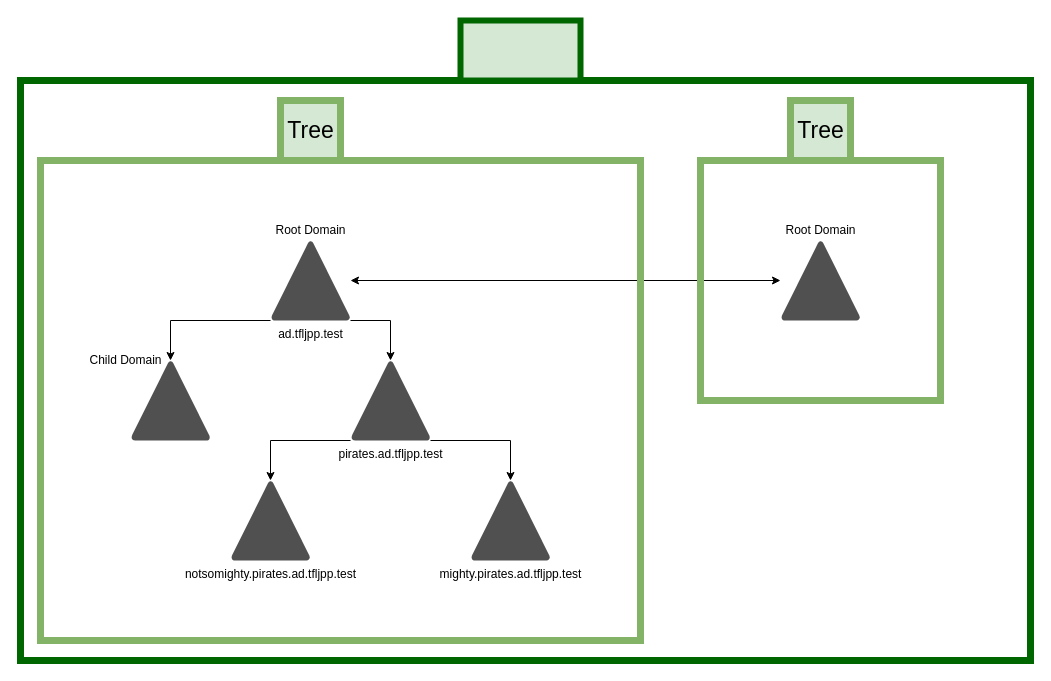
This 1051x681 diagram has some shape labels left out. Each missing label, with the centre of its shape:
"ad.WallyBFeedCartography.test" goes at (820,280).
"Forest" goes at (520,50).
"monkeys.ad.tfljpp.test" goes at (170,400).
